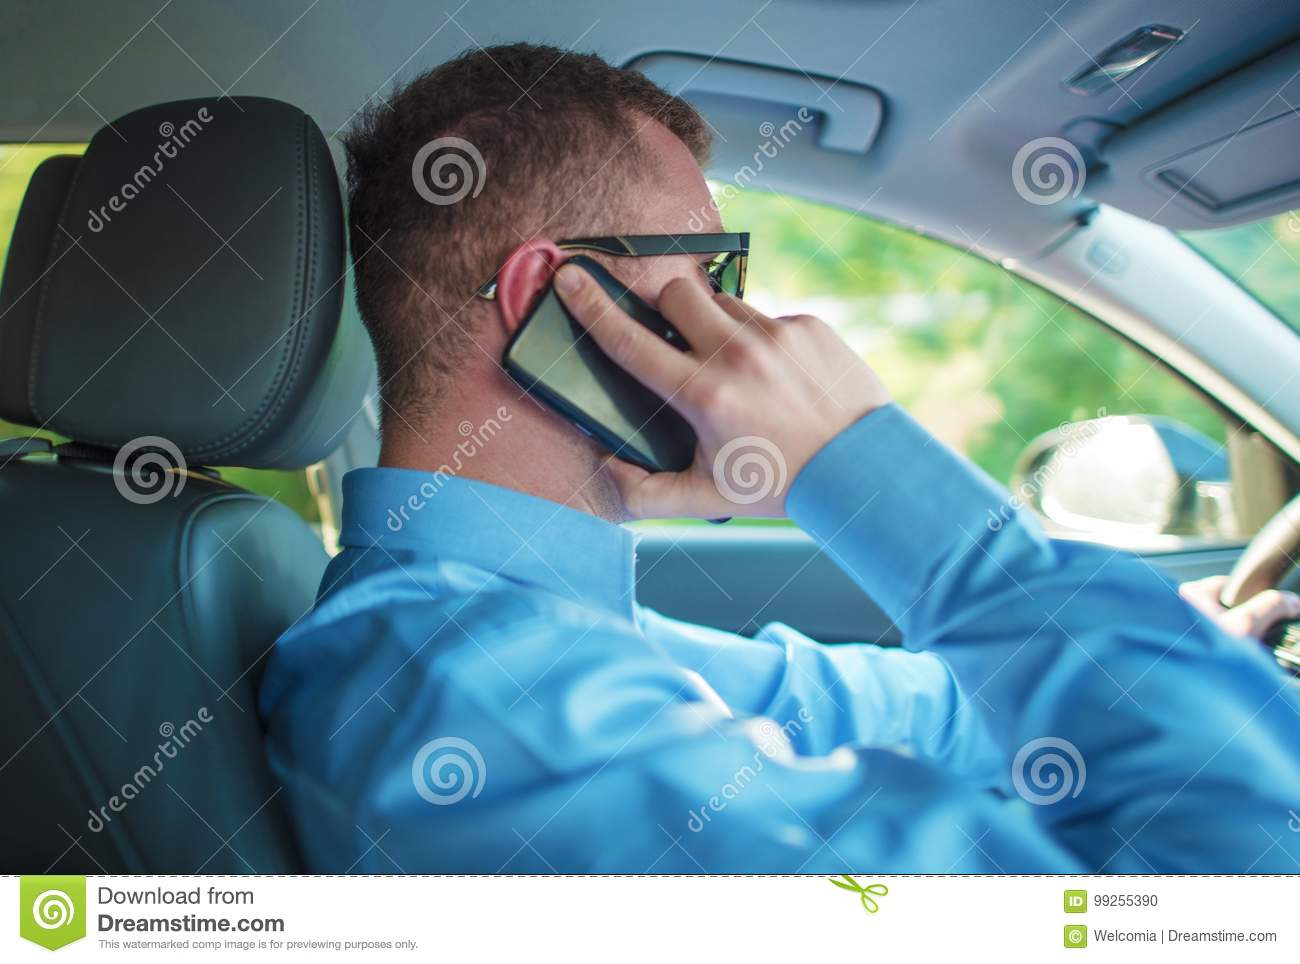phone: (500, 254, 741, 539)
talk: (467, 220, 897, 548)
